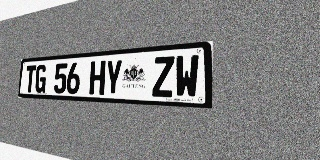5: (54, 63, 68, 94)
6: (66, 62, 81, 94)
G: (35, 64, 47, 93)
H: (89, 61, 106, 95)
T: (25, 65, 36, 93)
W: (174, 54, 199, 98)
Y: (105, 59, 123, 96)
Z: (152, 56, 175, 97)
